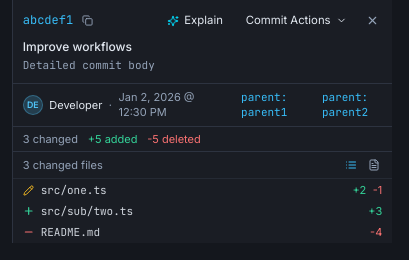
commit detail navigation and file presentation › executes Copy full hash from the real action dropdown
The image size is (409, 260).
Step 1. Click the button "Commit Actions" → (296, 21), box [238,10,355,32]
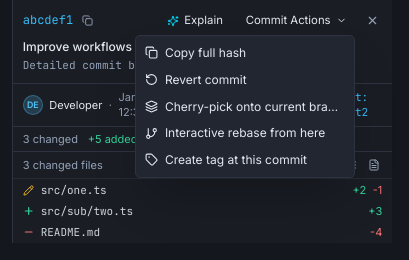
Step 2. Click the button "Copy full hash" → (245, 52), box [136,39,354,66]
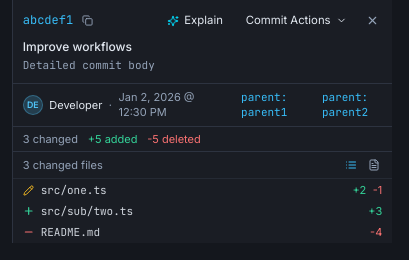
Check: the button "Copy full hash" is gone
